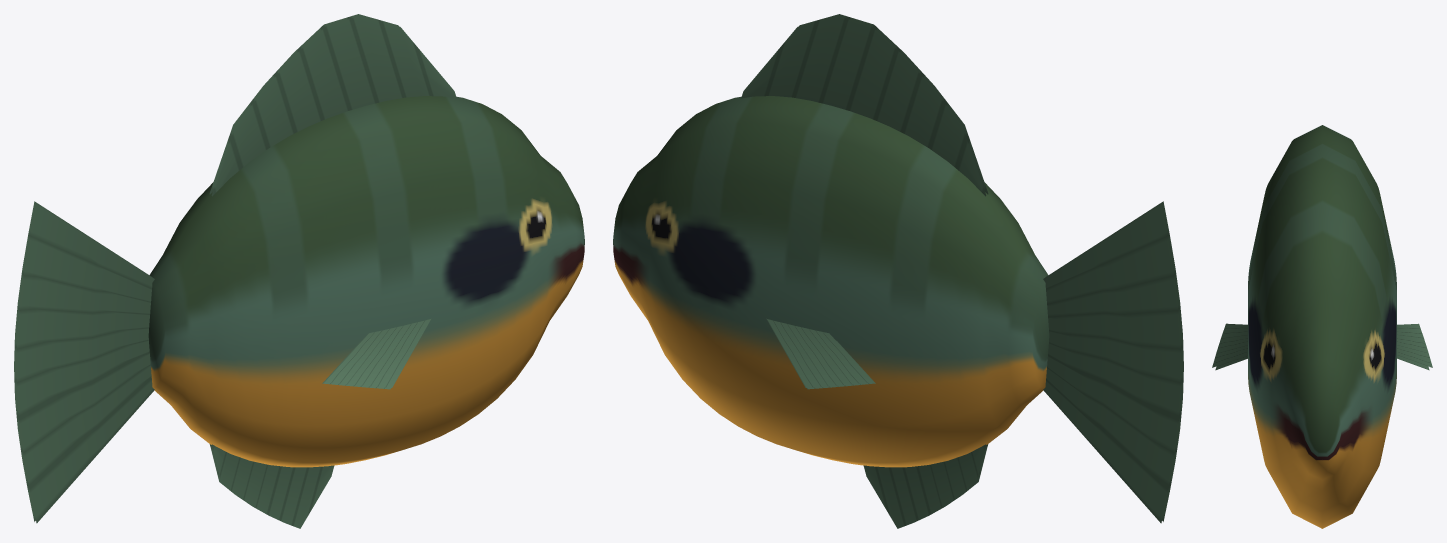
The model's file is Fish_01_Bluegill.fbx.
3 renders of one model, left to right at view 1: azimuth 30°, elevation 25°; view 2: azimuth 150°, elevation 25°; view 3: azimuth 270°, elevation 25°, orthographic. The views are drawn at different scales.
Parts seen in each view (by area): view 1: Fish_01_Bluegill; view 2: Fish_01_Bluegill; view 3: Fish_01_Bluegill.
Boxes of the visible parts, x1,y1,x2,y2 form: Fish_01_Bluegill: (14, 14, 584, 528); Fish_01_Bluegill: (613, 14, 1183, 528); Fish_01_Bluegill: (1212, 125, 1432, 528).
Size of the model in its own units: 1.04 by 0.8738 by 0.3608.
